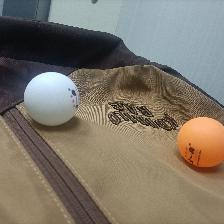WhiteBall: (23, 71, 77, 126)
YellowBall: (176, 116, 223, 167)
